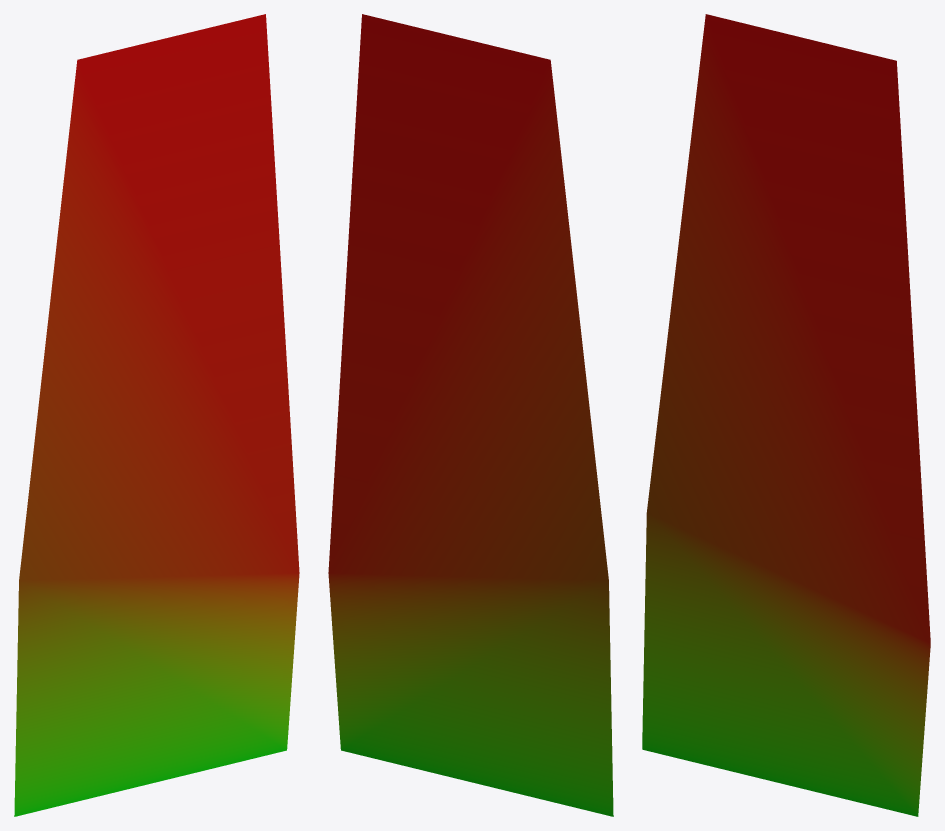
Rendered from Var2_LOD3.fbx.
The picture shows the model from 3 angles, left to right: view 1: azimuth 30°, elevation 25°; view 2: azimuth 150°, elevation 25°; view 3: azimuth 330°, elevation 25°; orthographic projection.
Visible parts, largest first — view 1: _5500_Var2_LOD3; view 2: _5500_Var2_LOD3; view 3: _5500_Var2_LOD3.
Part boxes in pixels (x1=…): _5500_Var2_LOD3: x1=14, y1=14, x2=299, y2=816; _5500_Var2_LOD3: x1=328, y1=14, x2=613, y2=816; _5500_Var2_LOD3: x1=642, y1=14, x2=930, y2=816.
Size of the model in its own units: 23.11 by 57.47 by 2.21e-06.
